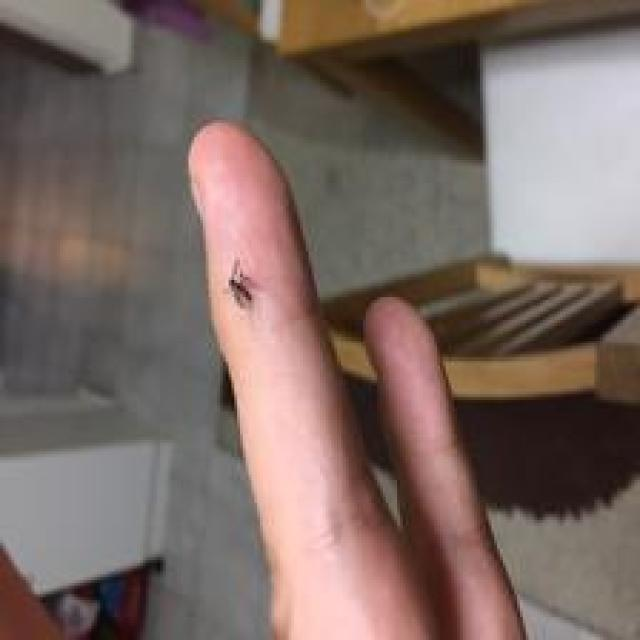Aedes albopictus: (226, 257, 254, 309)
